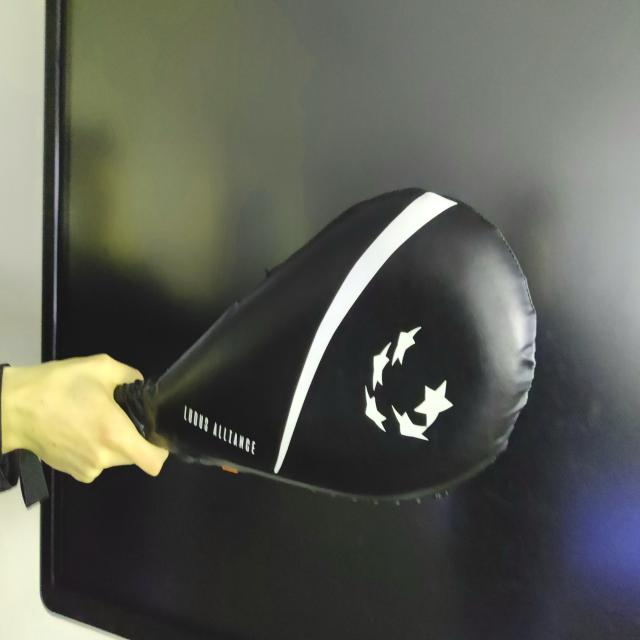paddle: (116, 183, 544, 508)
